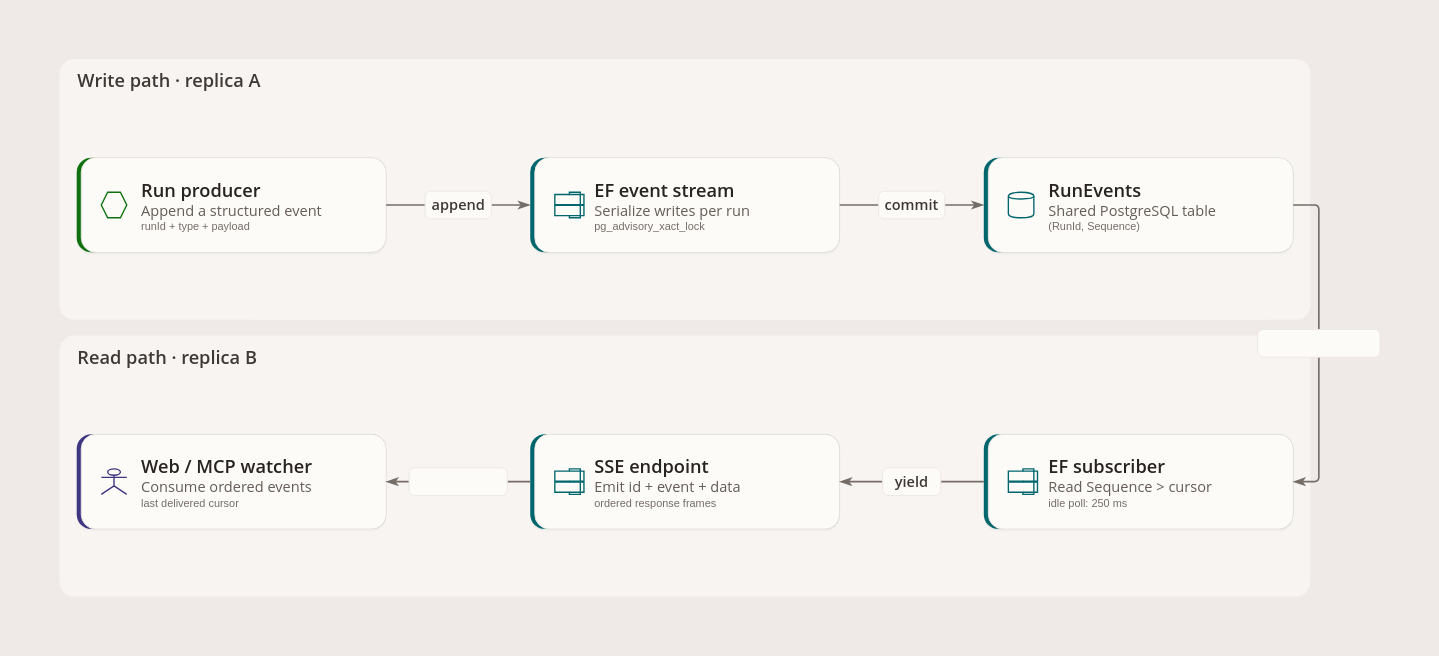
Some shapes in this 1439 by 656 pixel diagram are drawn without their labels. The shapes that lost their labels are listed below. From the top down, each one's centre as x and y in pixels, then its label:
At pixel 1318 343: "ordered batch".
At pixel 457 481: "SSE frames".
